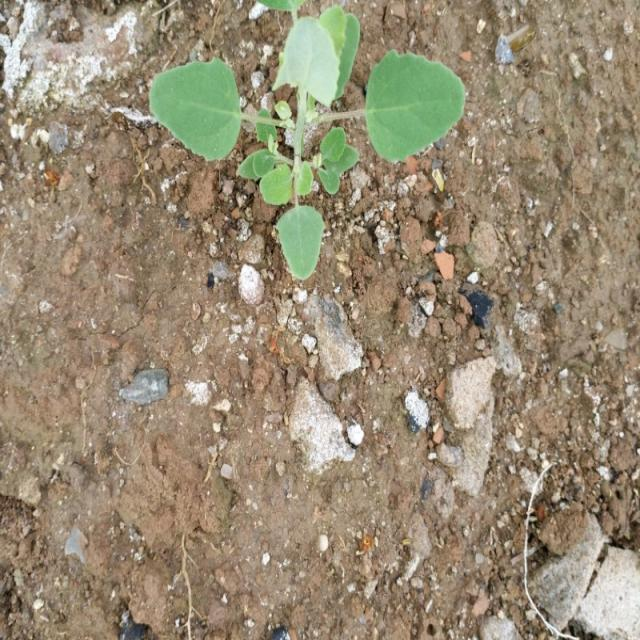ca: (148, 0, 468, 199)
